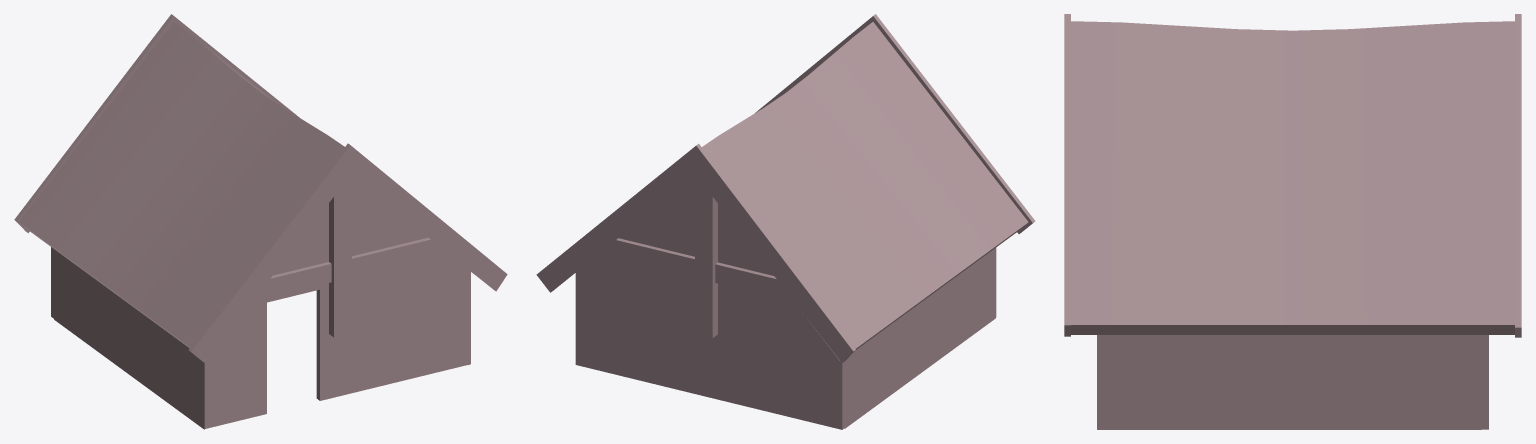
The model's file is germ_storehouse.dae.
3 renders of one model, left to right at view 1: azimuth 30°, elevation 25°; view 2: azimuth 150°, elevation 25°; view 3: azimuth 270°, elevation 25°, orthographic. The views are drawn at different scales.
Parts seen in each view (by area): view 1: inside; view 2: inside; view 3: inside.
Boxes of the visible parts, <box> form: inside: <box>14,14,507,429</box>; inside: <box>536,14,1035,429</box>; inside: <box>1064,14,1521,429</box>.
Size of the model in its own units: 7.19 by 7 by 5.64.
